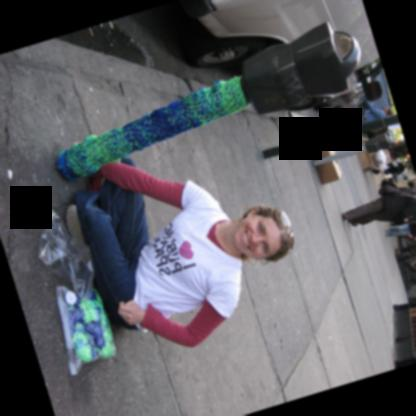handbag: (378, 178, 416, 200), (407, 219, 416, 225), (389, 160, 398, 166)
